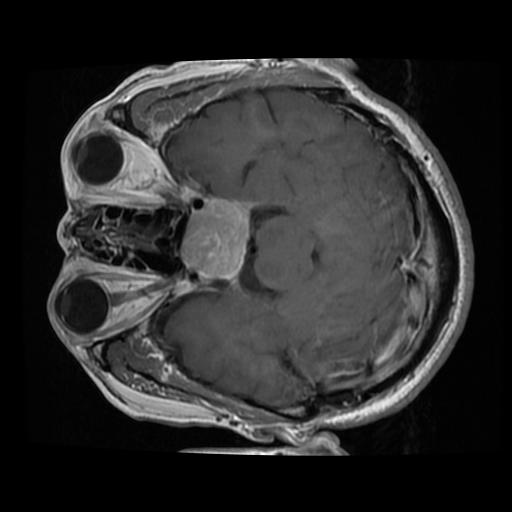pituitary tumour: (184, 200, 248, 280)
